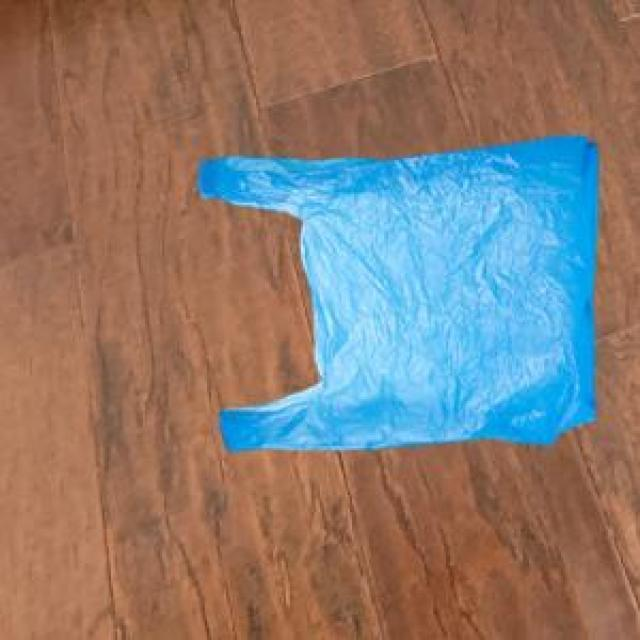waste: (198, 136, 596, 451)
